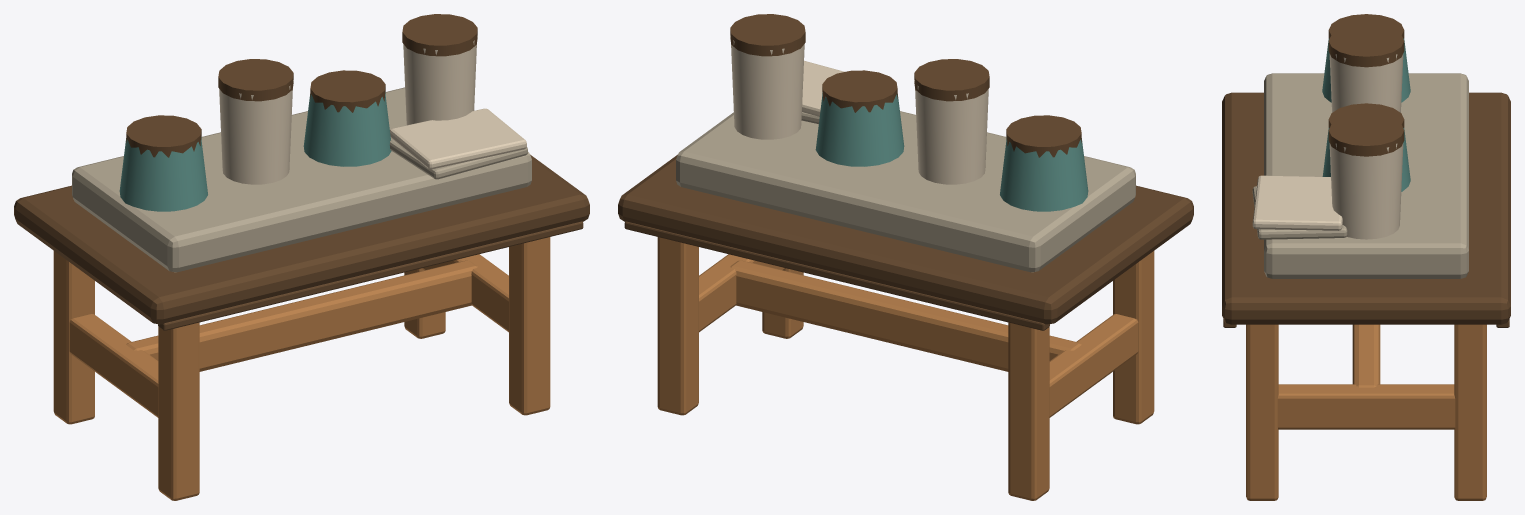
Rendered from terrune_studio_small.glb.
The picture shows the model from 3 angles, left to right: view 1: azimuth 30°, elevation 25°; view 2: azimuth 150°, elevation 25°; view 3: azimuth 270°, elevation 25°; orthographic projection.
Visible parts, largest first — view 1: terrune_studio_small; view 2: terrune_studio_small; view 3: terrune_studio_small.
Part boxes in pixels (<box>): terrune_studio_small: <box>14,14,589,500</box>; terrune_studio_small: <box>618,14,1193,500</box>; terrune_studio_small: <box>1222,14,1510,500</box>.
Bounding box in the file's own units: 1.08 × 0.8225 × 0.62.
